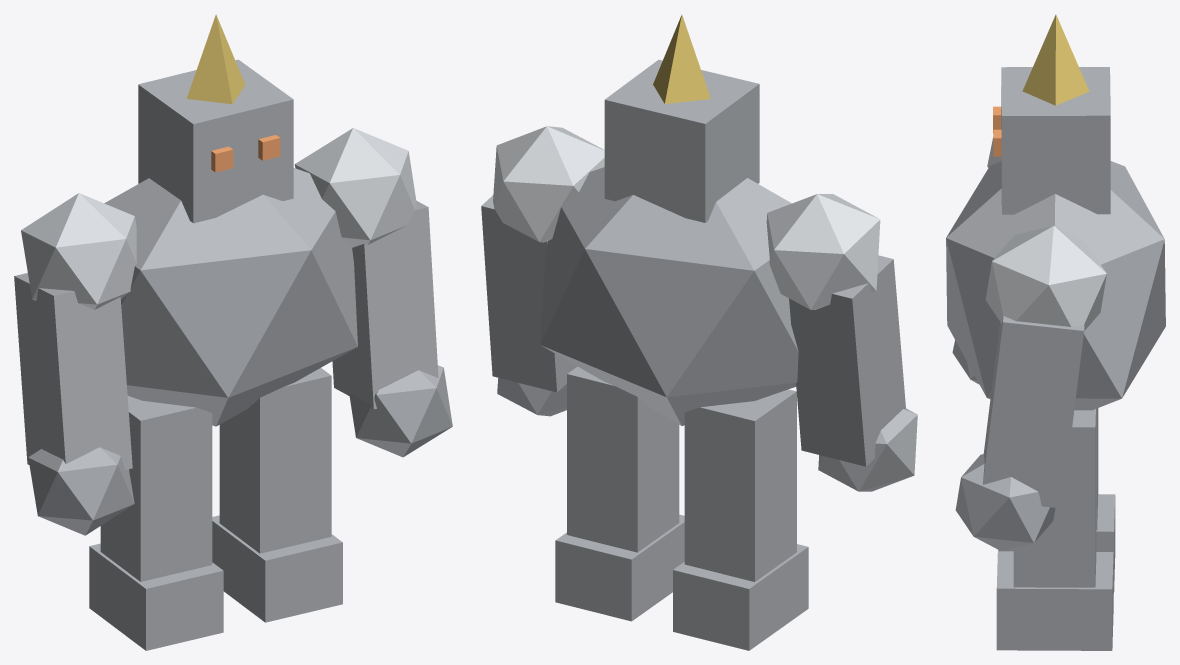
The model's file is npcpose_golem_idle_11.glb.
3 views of the same model, side by side, from view 1: azimuth 30°, elevation 25°; view 2: azimuth 150°, elevation 25°; view 3: azimuth 270°, elevation 25° (orthographic).
Visible parts, largest first — view 1: npcpose; view 2: npcpose; view 3: npcpose.
Boxes of the visible parts, <box> form: npcpose: <box>14,14,452,650</box>; npcpose: <box>481,14,917,650</box>; npcpose: <box>946,14,1165,650</box>.
Size of the model in its own units: 1.38 by 1.91 by 0.6465.
